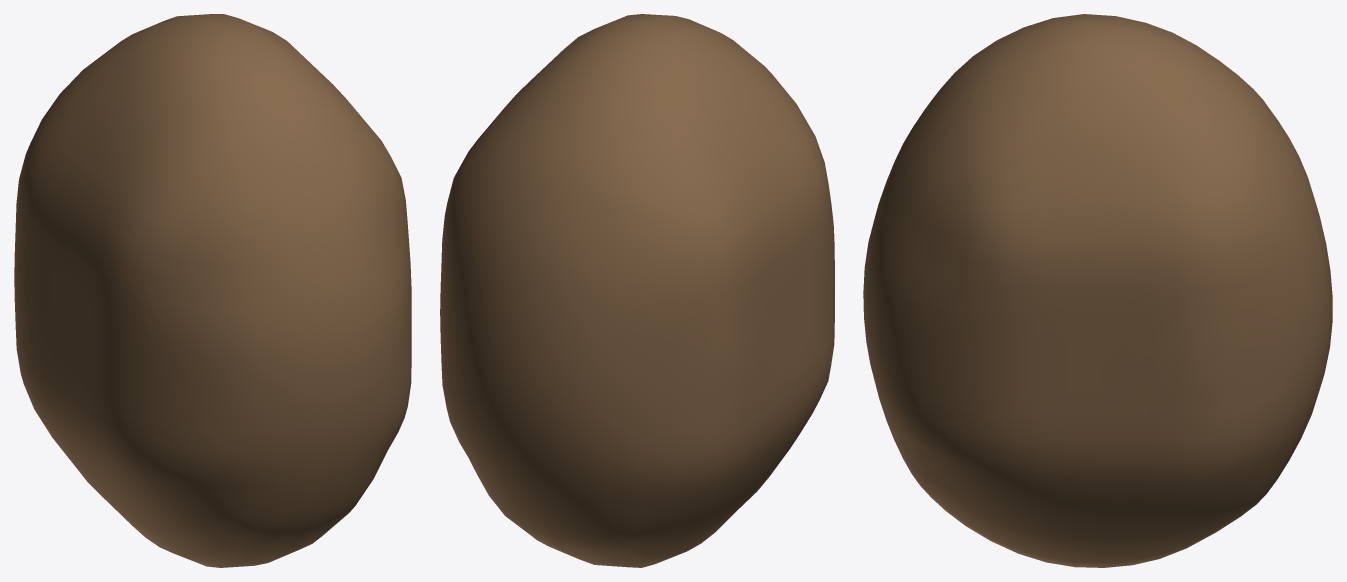
The model's file is potato.fbx.
The picture shows the model from 3 angles, left to right: view 1: azimuth 30°, elevation 25°; view 2: azimuth 150°, elevation 25°; view 3: azimuth 270°, elevation 25°; orthographic projection.
Visible parts, largest first — view 1: Plane; view 2: Plane; view 3: Plane.
Part boxes in pixels (x1=…): Plane: x1=14, y1=14, x2=411, y2=567; Plane: x1=440, y1=14, x2=834, y2=567; Plane: x1=863, y1=14, x2=1332, y2=567.
Size of the model in its own units: 159 by 271 by 216.
